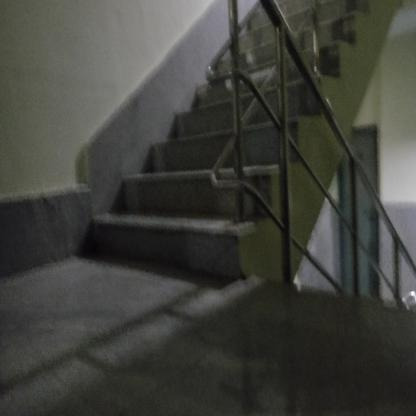stairs: (152, 139, 210, 272)
